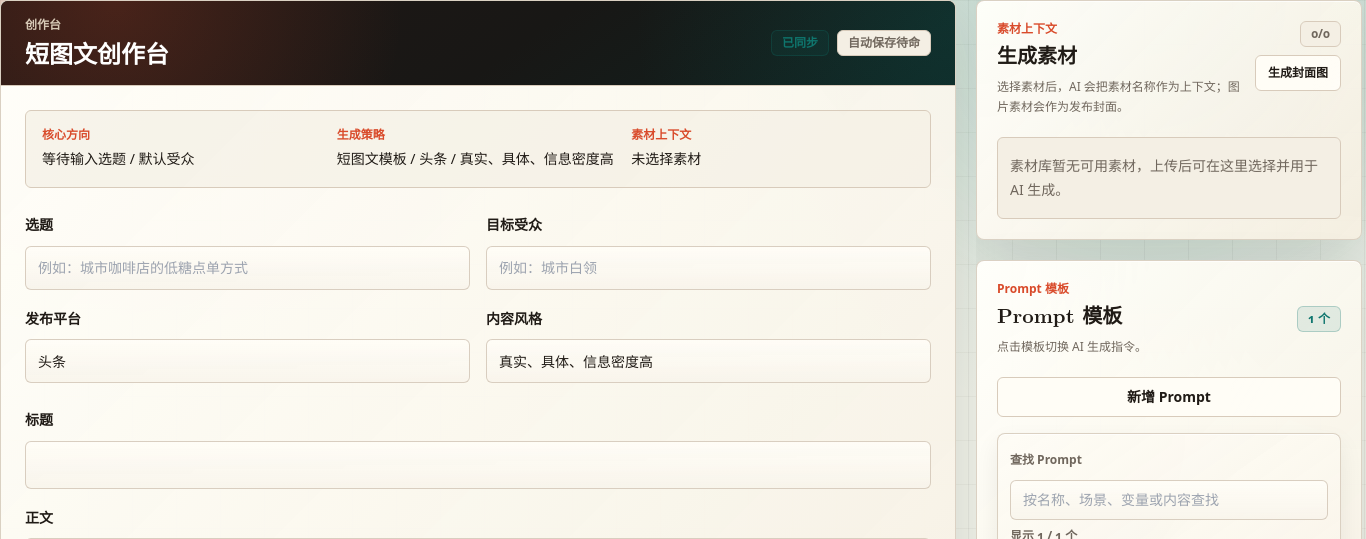
Test: creation studio › autosaves once after 30 seconds without further editing
Expected: the text "自动保存待命" is shown, [837, 30, 931, 56]
Type "第一版标题" into the field labelled "标题".
click(478, 465); type("第一版标题")  # box [25, 441, 931, 489]
Wait 1000 ms
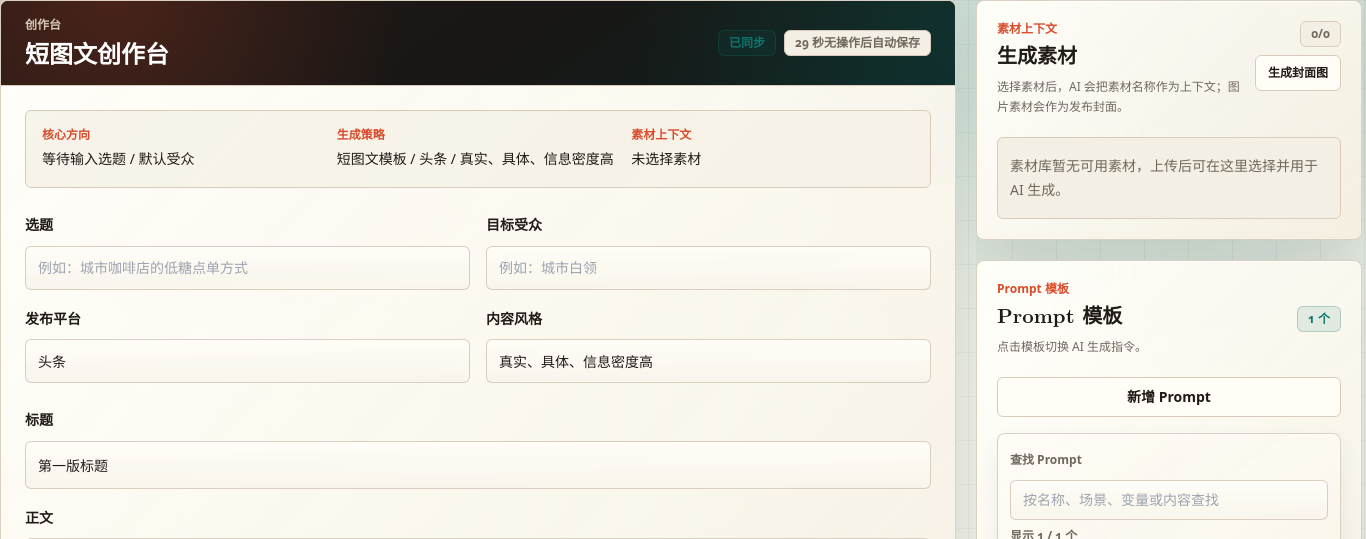
Expected: the text "29 秒无操作后自动保存" is shown, [784, 30, 931, 56]
Replace the text in the field labelled "标题" with "第二版标题" at (478,465), box [25, 441, 931, 489]
Wait 61000 ms
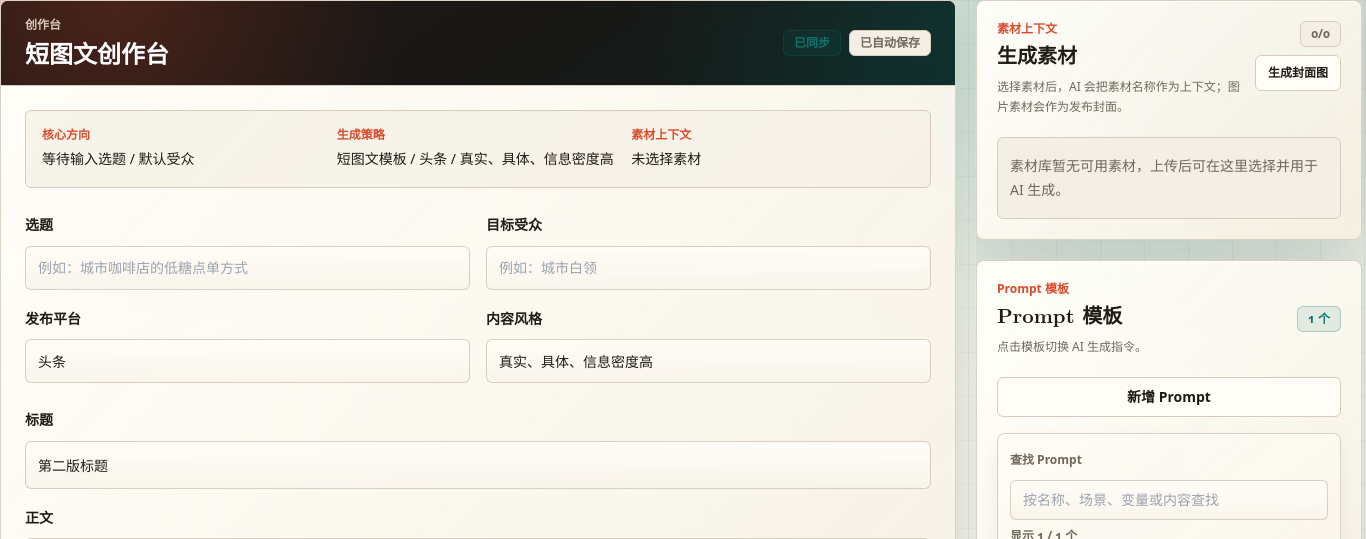
Expected: the text "已自动保存" is shown, [849, 30, 931, 56]
